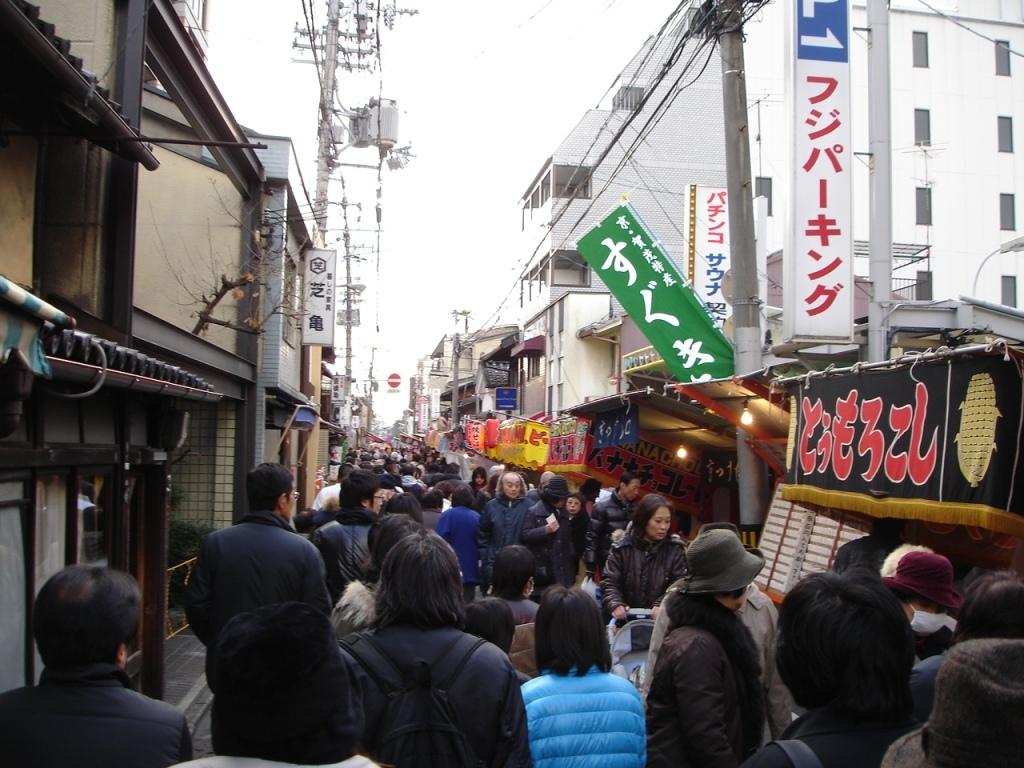Sem Máscara: (650, 497, 675, 543), (503, 470, 522, 497), (622, 474, 637, 498), (368, 485, 379, 514), (286, 481, 293, 516), (564, 495, 578, 511), (734, 589, 747, 604), (469, 469, 480, 484)
